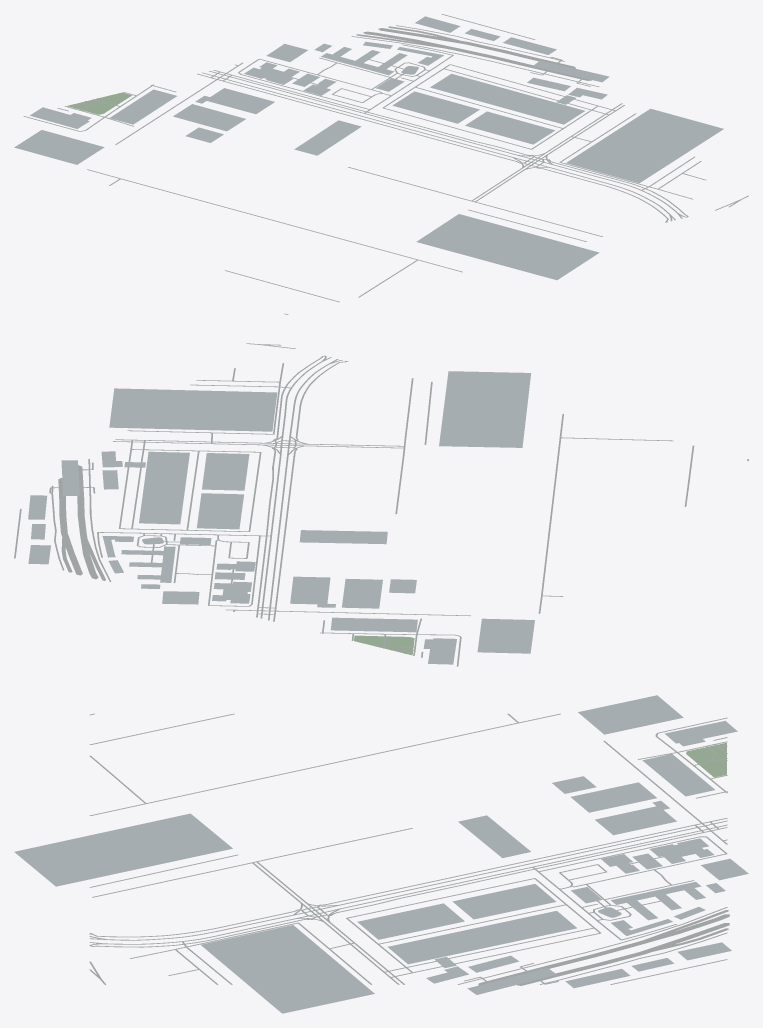
The model's file is -21_10-known-coarse.glb.
3 renders of one model, top to bottom at view 1: azimuth 30°, elevation 25°; view 2: azimuth 150°, elevation 25°; view 3: azimuth 270°, elevation 25°, orthographic. The views are drawn at different scales.
Bounding box in the file's own units: 1177 × 0.15 × 1148.
